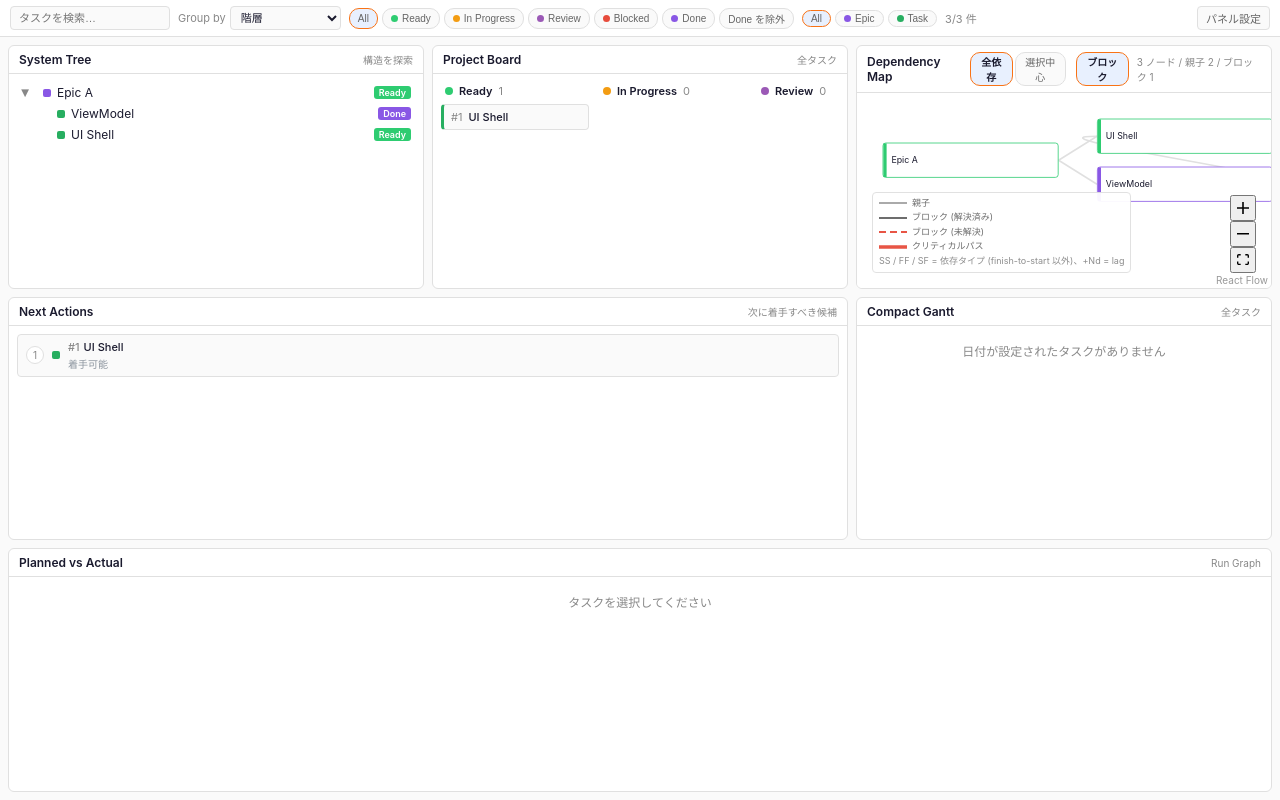
Scenario: [FR-VIS-029-AC5] フィルタ状態が Tree / Board / Next Actions / Timeline / Dependency Map で一貫し、一致件数がフィルタ結果と一致する › Done を除外 + 検索の組み合わせが全パネルに同じ集合で反映される
Click the button "Done を除外".
click(757, 18)  # box [719,8,794,28]
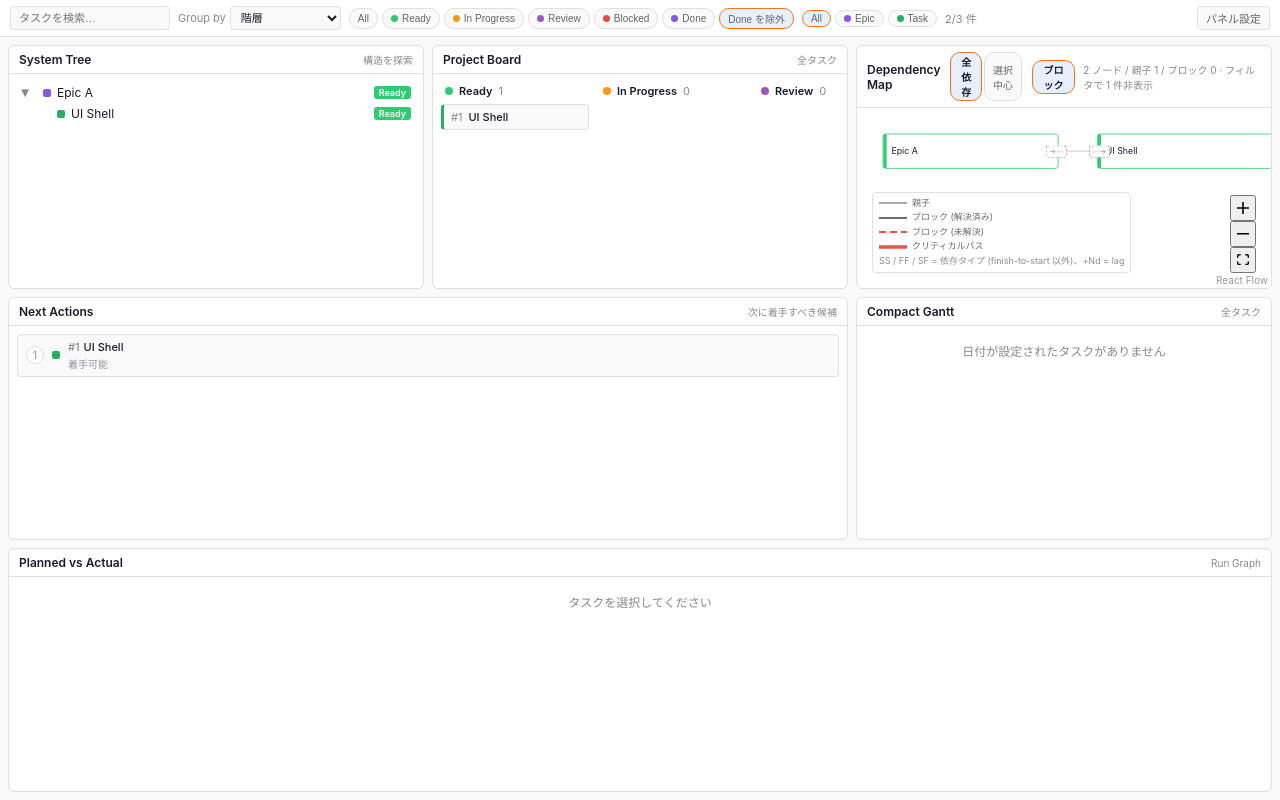
Now the button named "System Tree" no longer shows "ViewModel"
Now the button named "Project Board" no longer shows "ViewModel"
Now the button named "Next Actions" no longer shows "ViewModel"
Note: 検索を重ねると件数も一致する
Type "UI" into the search field named "Project Map 検索".
click(90, 18); type("UI")  # box [10,6,170,30]
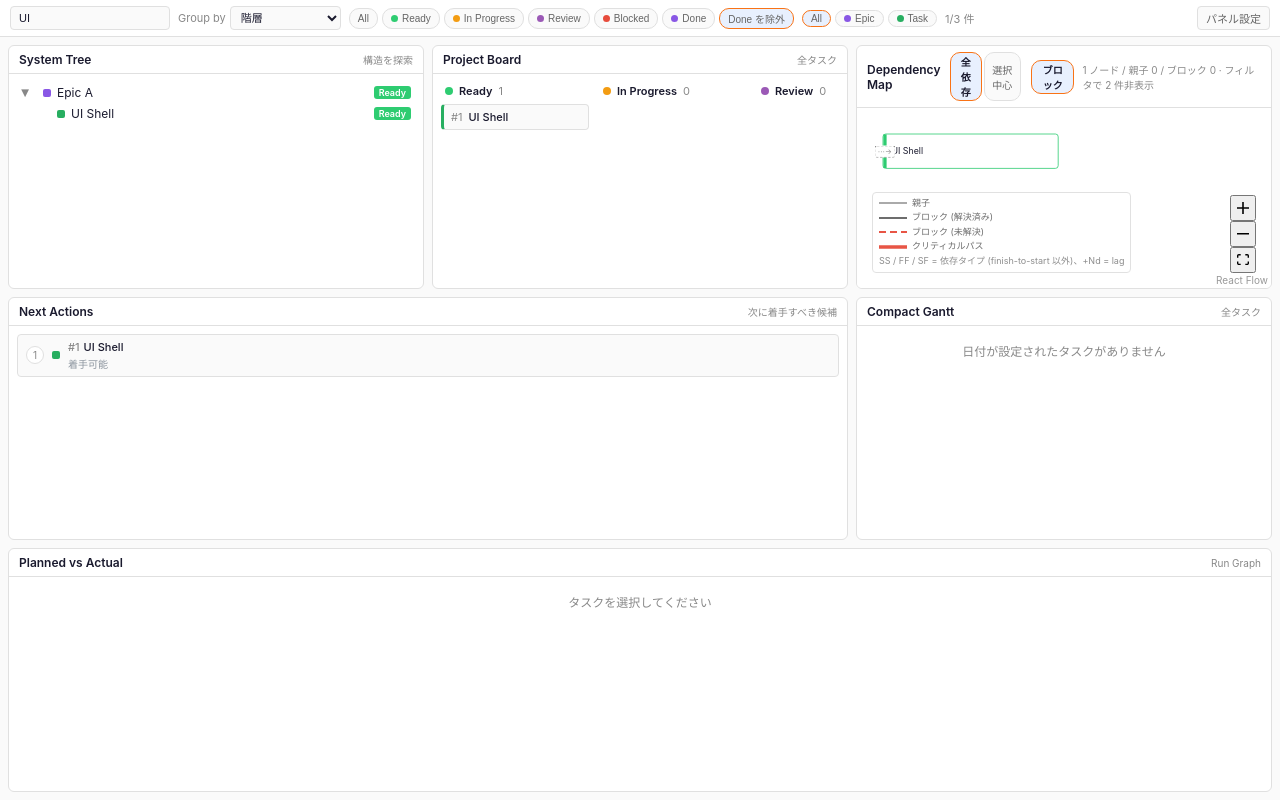
Expected: the element named "Project Board" shows "UI Shell", [468,110,508,124]
Now the text "1/3 件" is shown, box [945,10,974,26]
